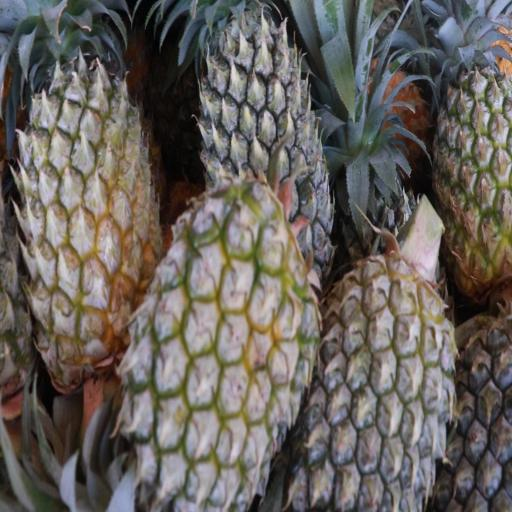------------------------------: (127, 187, 310, 511), (22, 0, 158, 367), (437, 50, 511, 278)
